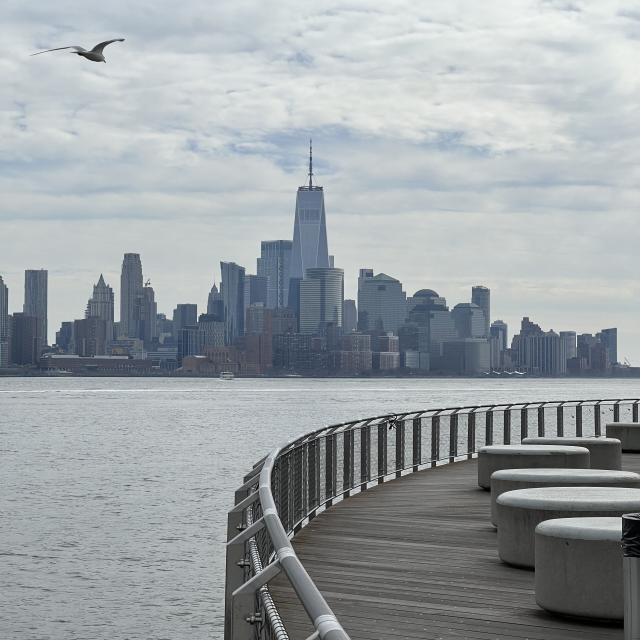WTC: (286, 136, 333, 268)
